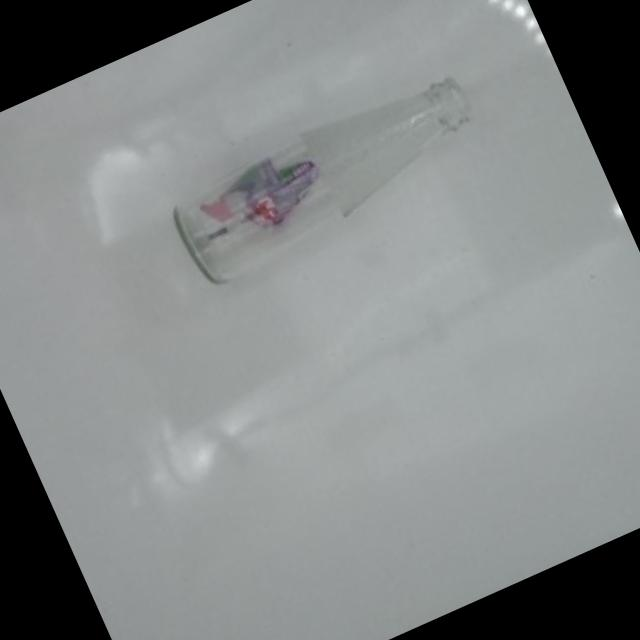BotolPlastik: (158, 62, 496, 293)
